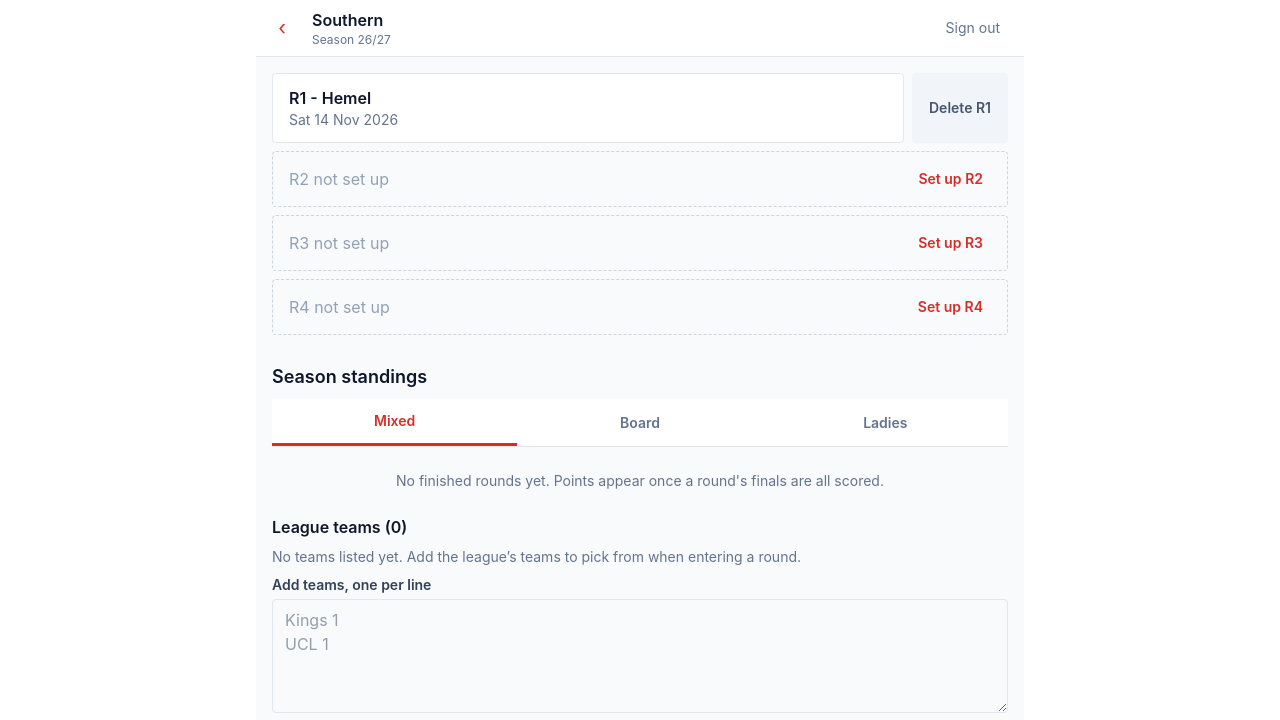
Test: LeaguePage › does not delete a round on the first tap
The width and height of the screenshot is (1280, 720).
Step 1. Click the button "Delete R1" → click(960, 108), box [912,73,1008,143]
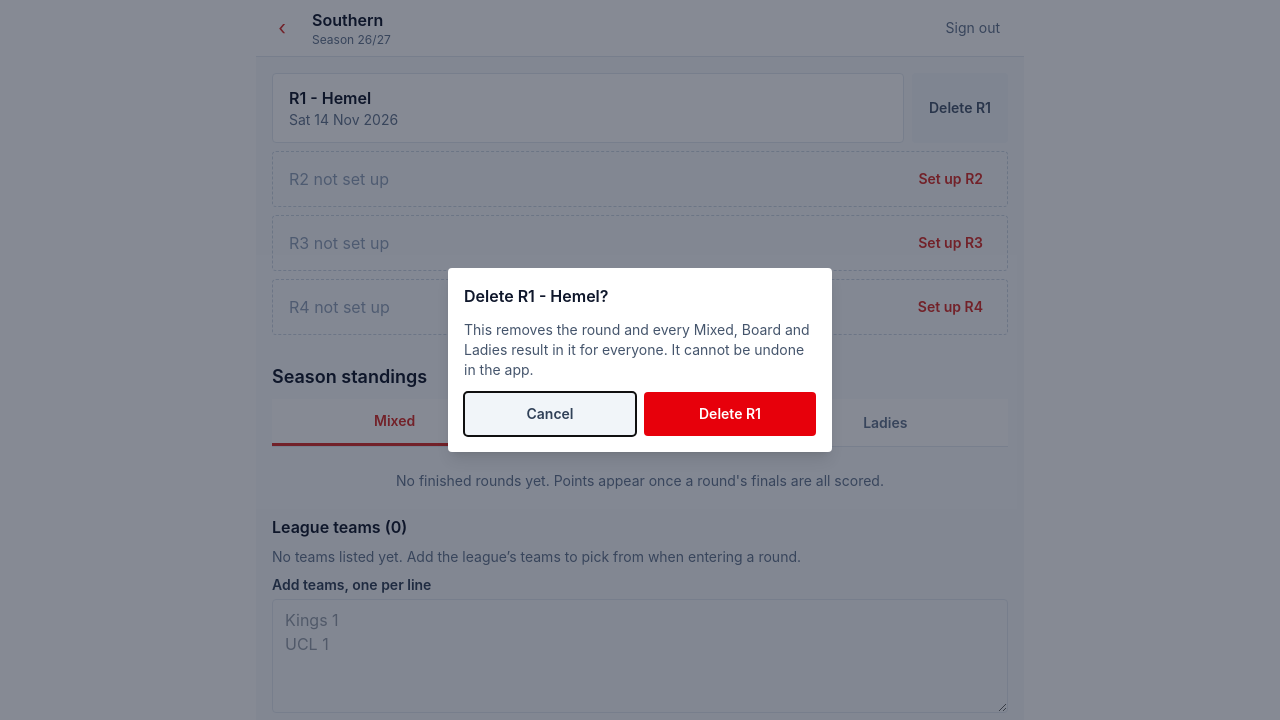
Now the heading "Delete R1 - Hemel?" is shown, box [464,286,608,306]
